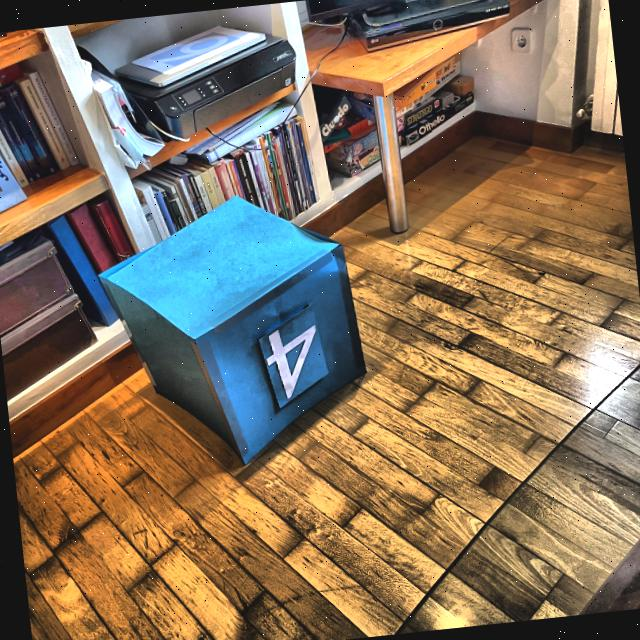blue box: (88, 182, 384, 480)
four: (257, 320, 327, 404)
